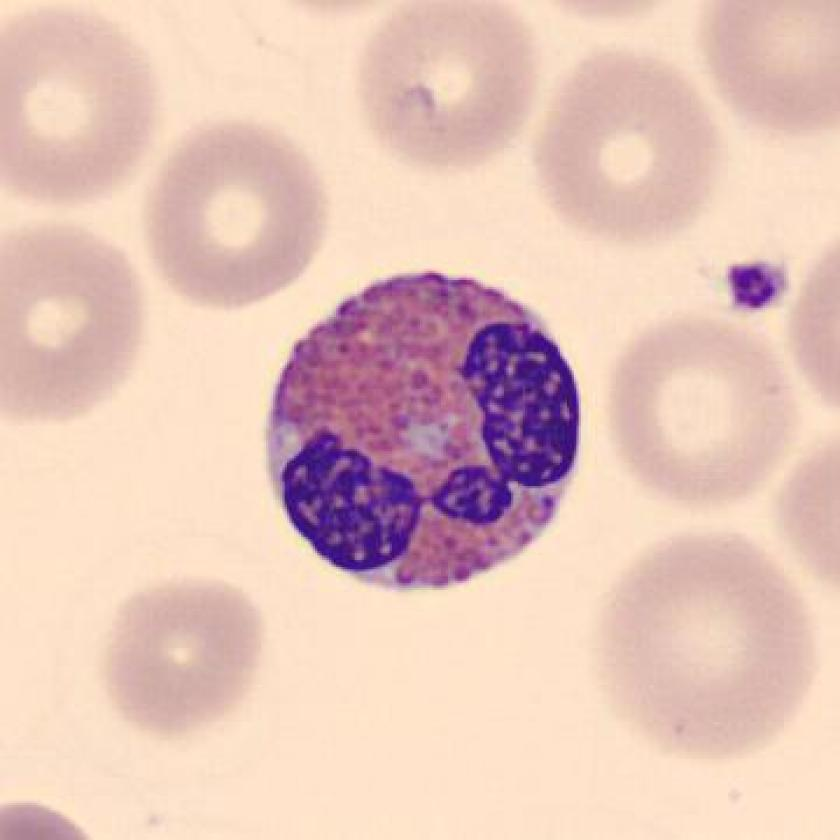eosinophil: (255, 247, 594, 608)
